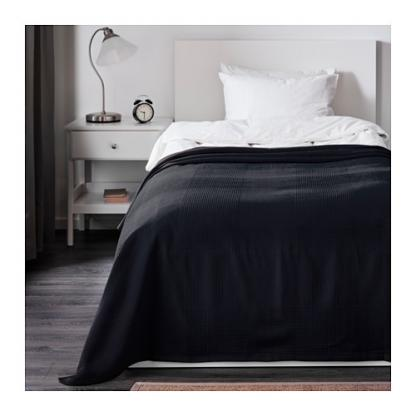Bed: (118, 38, 394, 374)
